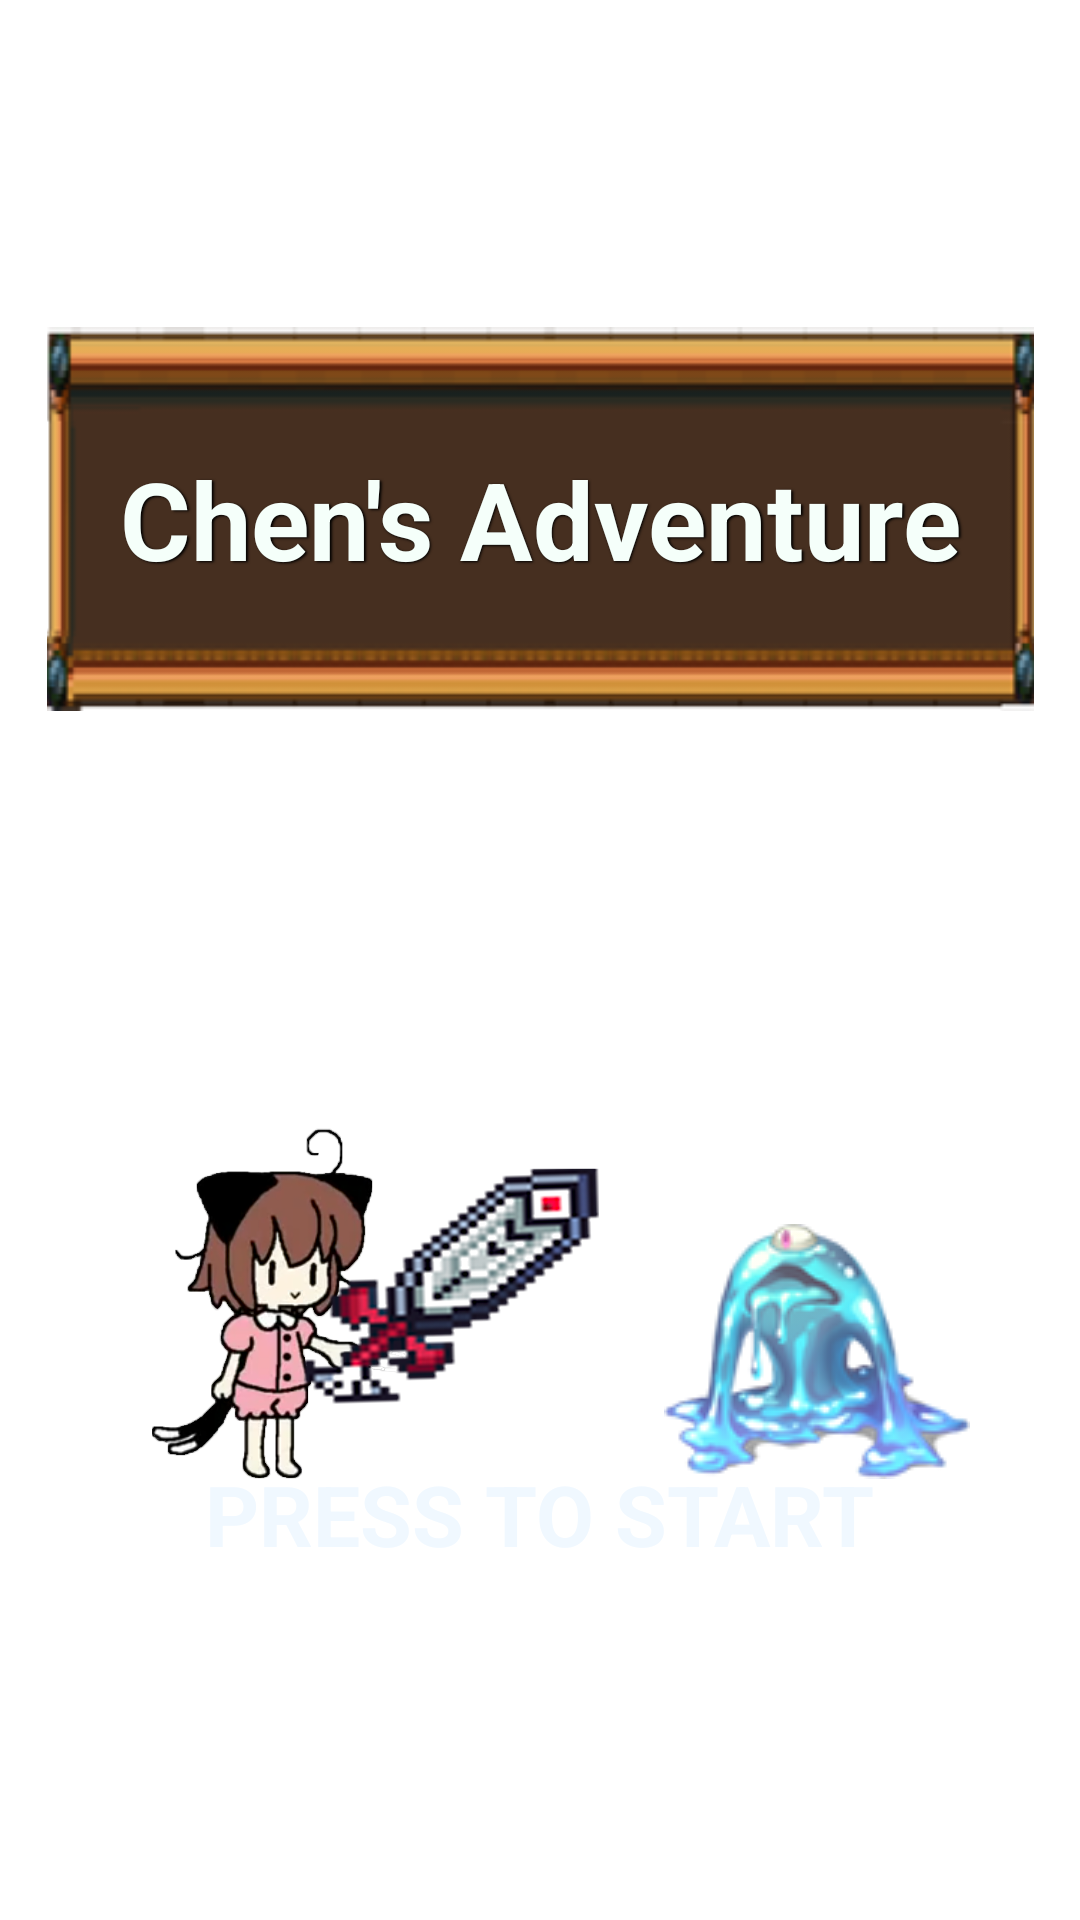

Where to tap for icons on this 1080 × 1920 app screen, as [x,y]:
slime: [817,1351]
